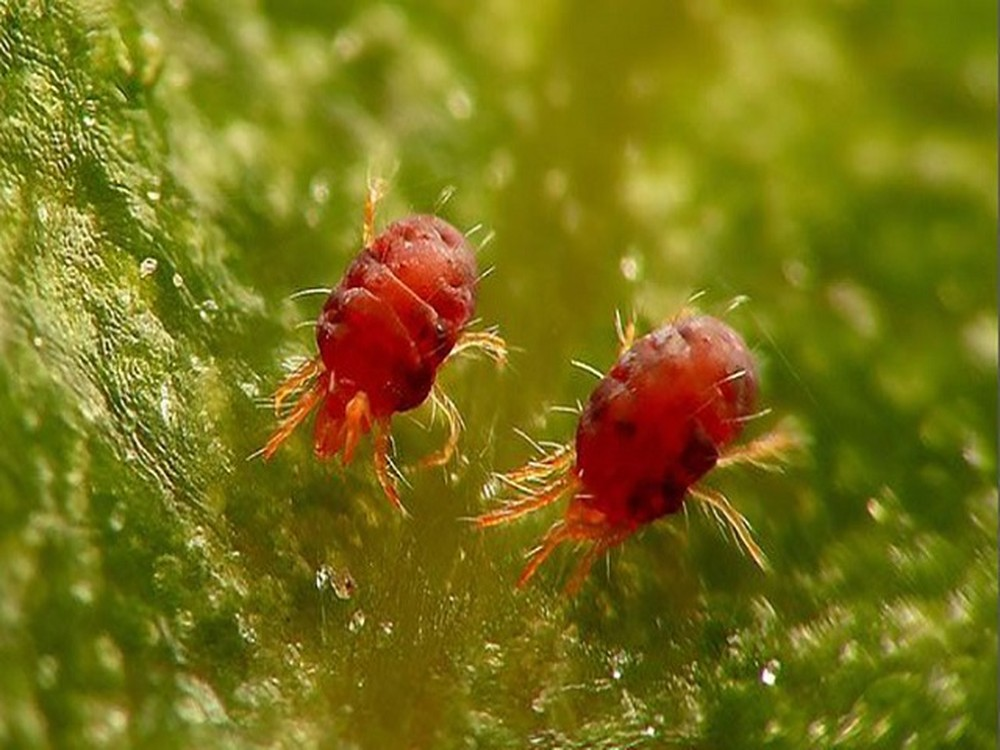Aracnido Rojo: (492, 265, 808, 611), (245, 141, 515, 523)
